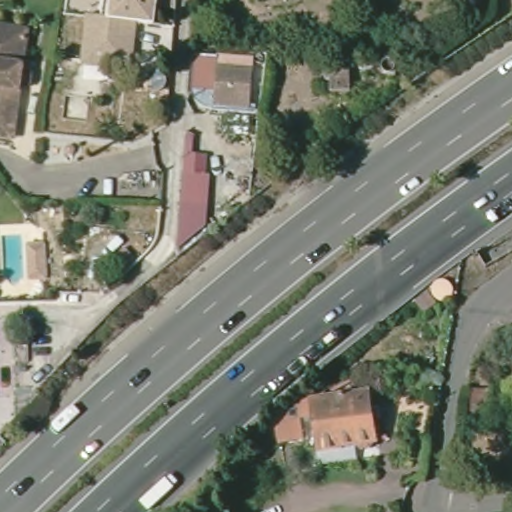pool: (1, 227, 33, 291)
